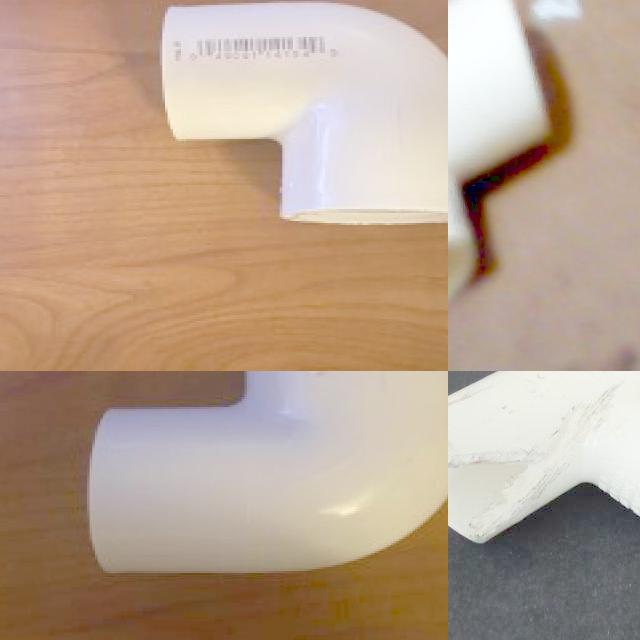Defective: (546, 386, 622, 464), (448, 455, 530, 508), (472, 516, 517, 543), (448, 388, 479, 410)
L Joint: (85, 371, 448, 578), (158, 0, 448, 226)
T Joint: (448, 371, 640, 546), (448, 0, 552, 304)
